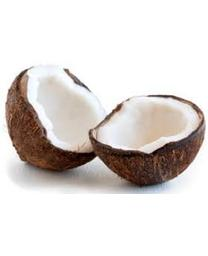coconut: (88, 93, 205, 185), (8, 64, 106, 171)
